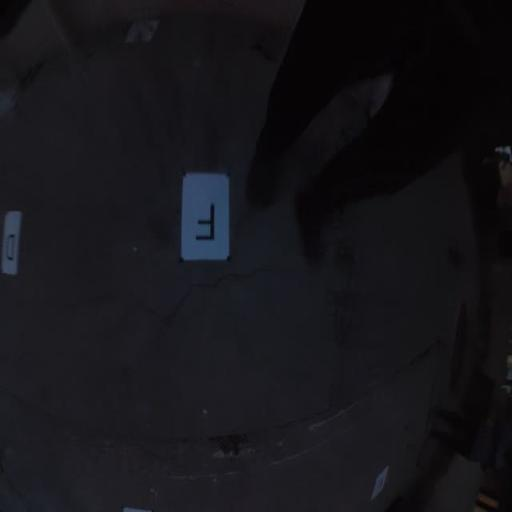D: (1, 210, 22, 276)
F: (180, 172, 230, 262)
